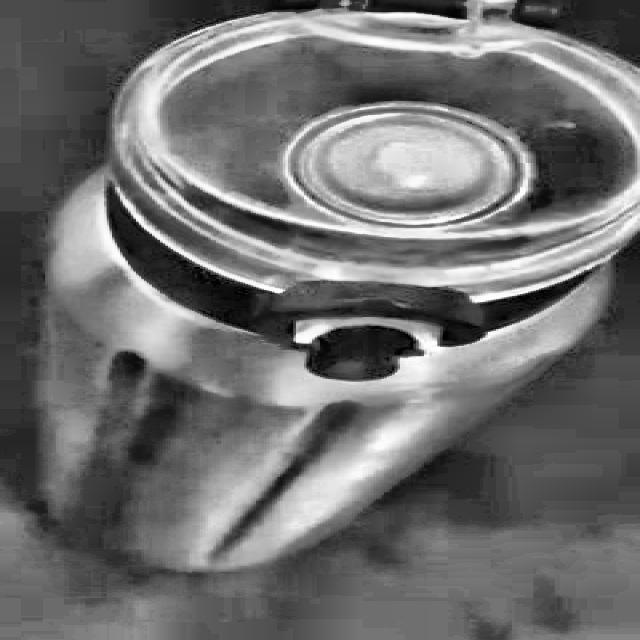bottle: (45, 0, 640, 574)
